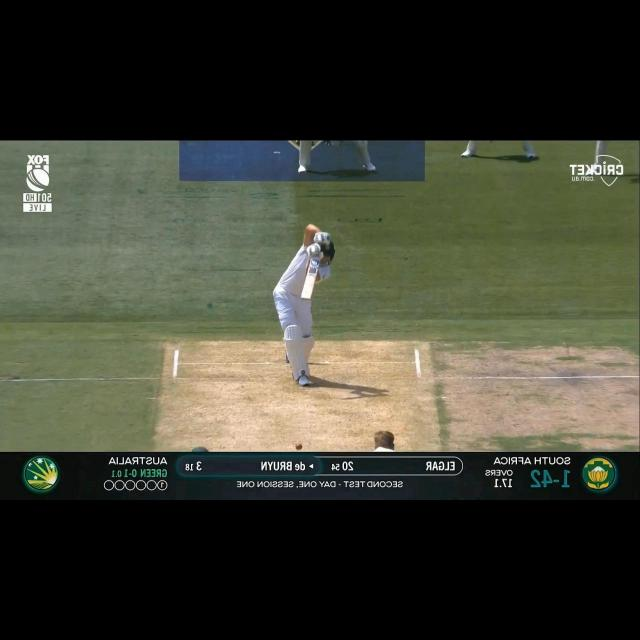bat: (299, 260, 323, 301)
toe: (301, 293, 311, 301)
